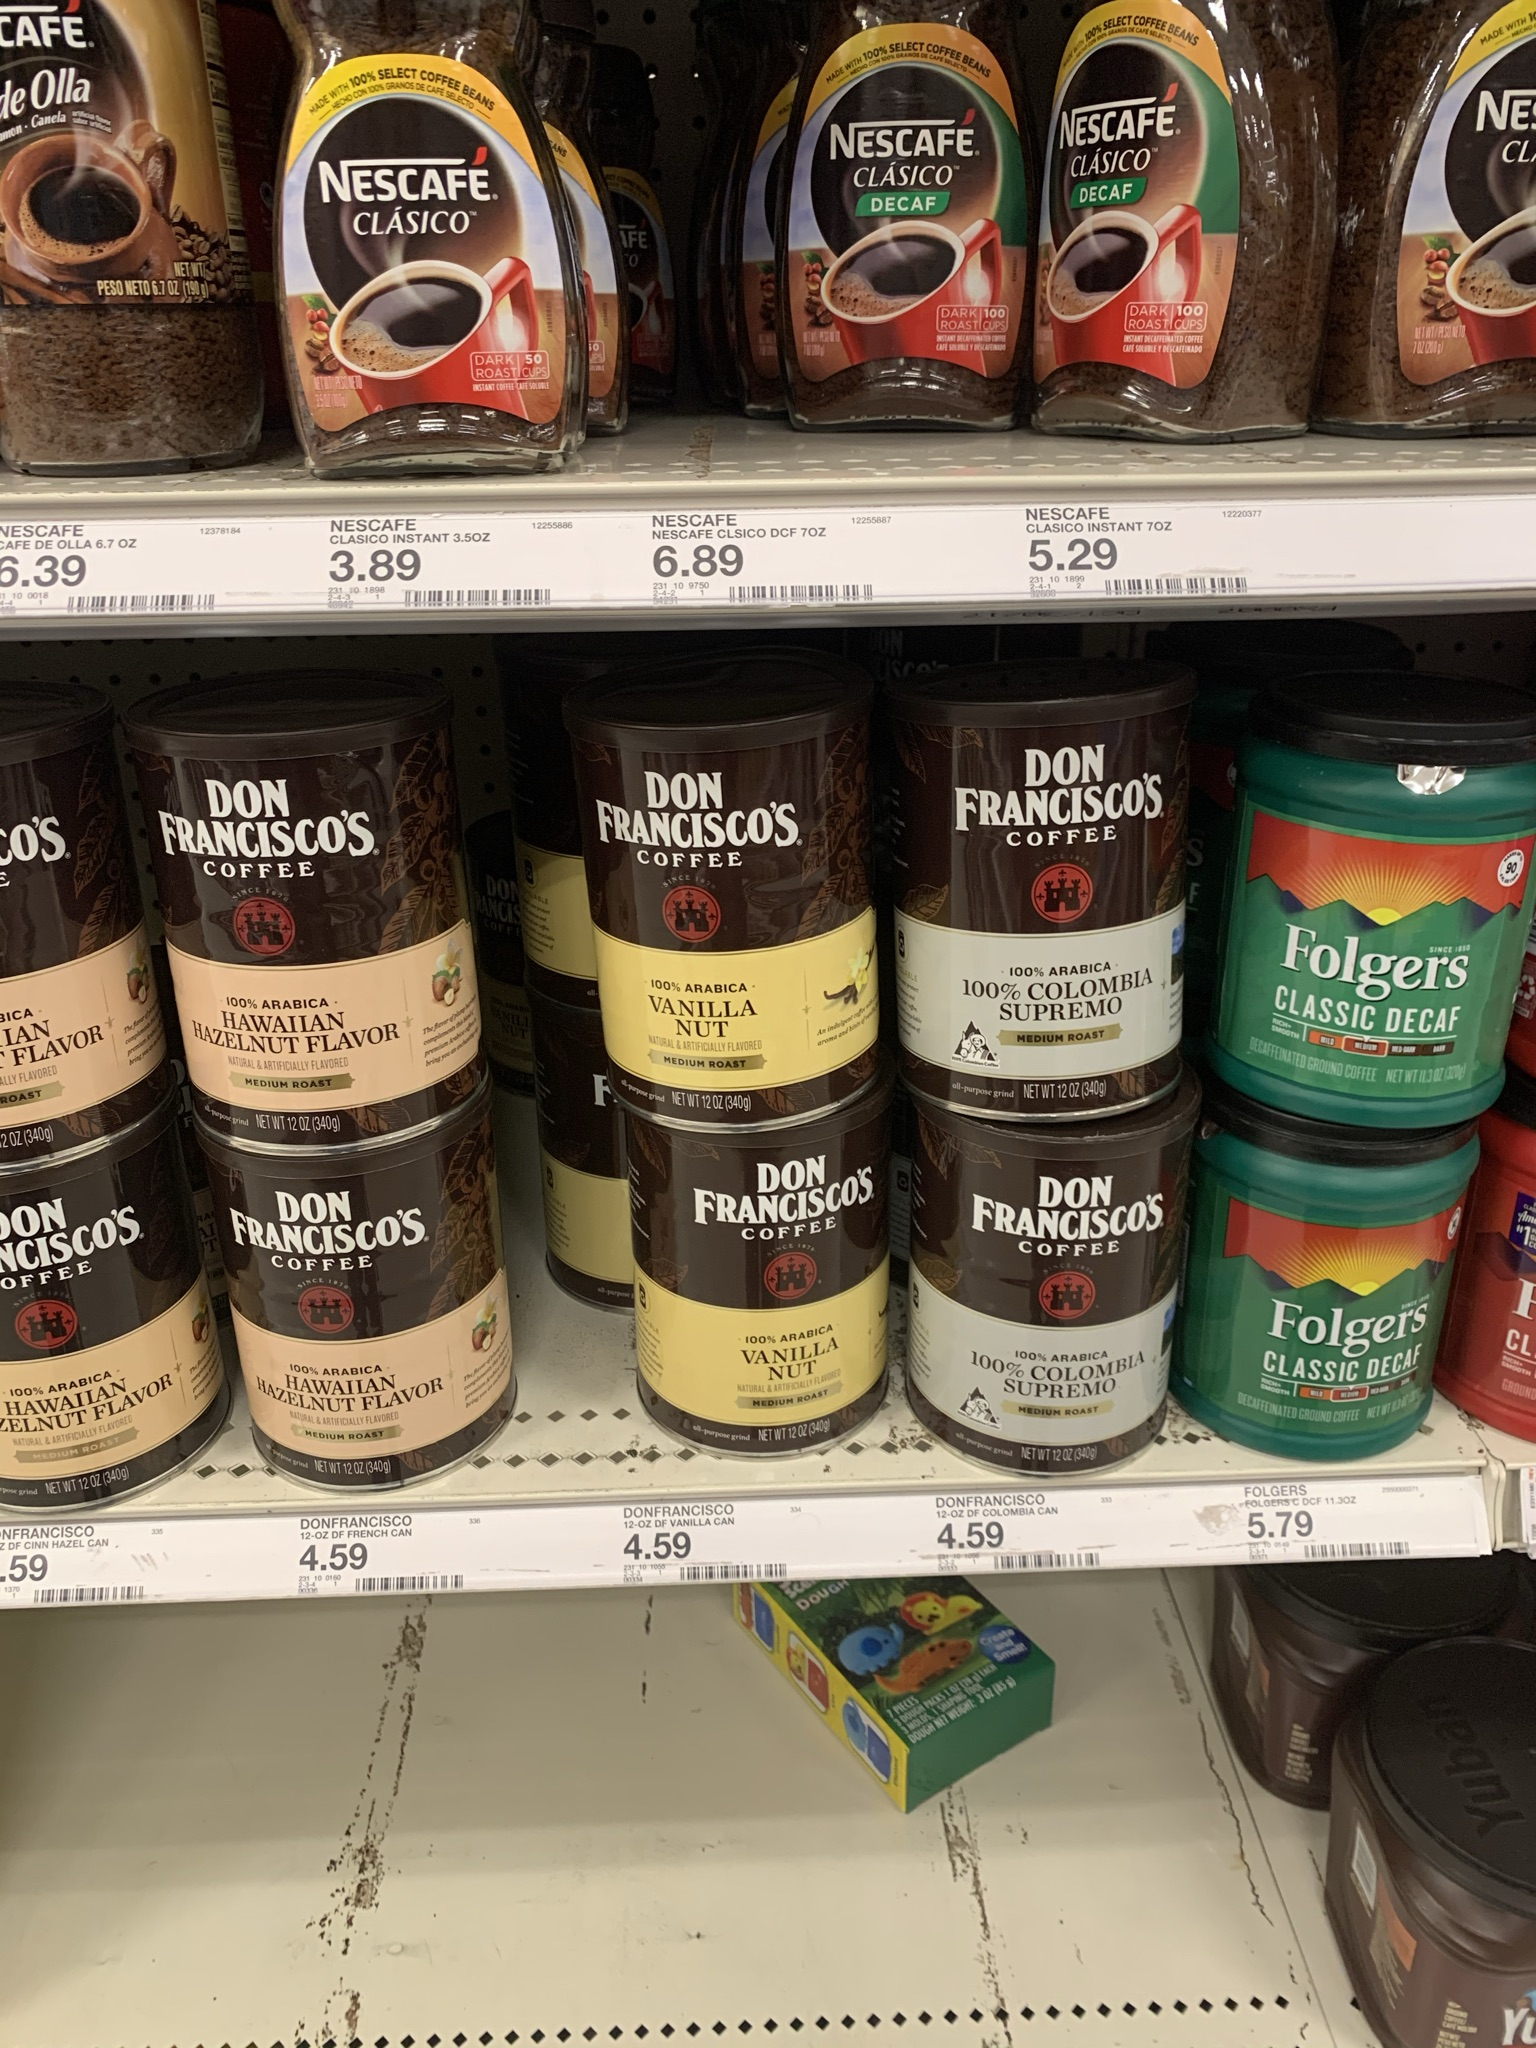can: (177, 695, 452, 1121), (908, 705, 1178, 1101), (594, 714, 871, 1089), (918, 1130, 1176, 1421), (649, 1122, 883, 1430), (236, 1159, 503, 1419), (2, 1172, 169, 1484)
